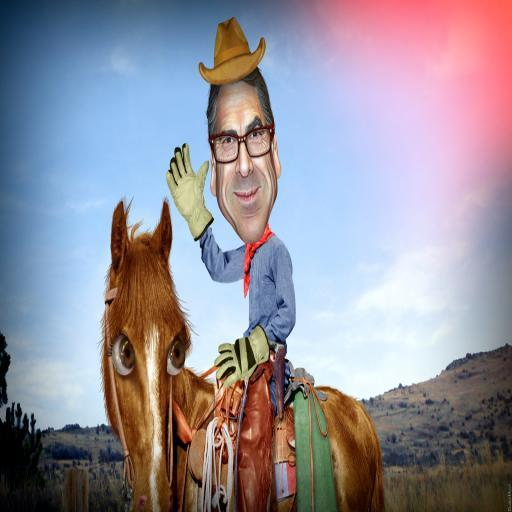horse: (96, 190, 386, 512)
